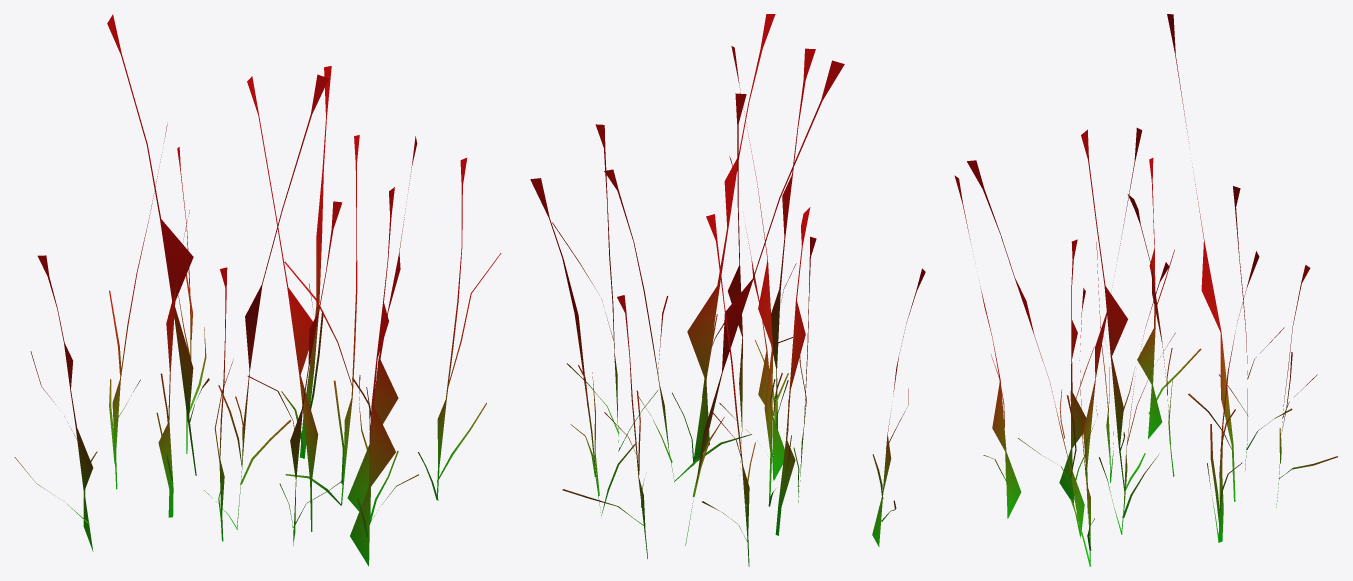
File: Tundra Grass_LOD6_Var33_wk2oaeyqx.fbx
3 renders of one model, left to right at view 1: azimuth 30°, elevation 25°; view 2: azimuth 150°, elevation 25°; view 3: azimuth 270°, elevation 25°, orthographic. The views are drawn at different scales.
Visible parts, largest first — view 1: _410v_Var33_LOD6; view 2: _410v_Var33_LOD6; view 3: _410v_Var33_LOD6.
Part boxes in pixels (left/top/right/bottom): _410v_Var33_LOD6: left=14, top=14, right=501, bottom=566; _410v_Var33_LOD6: left=530, top=14, right=925, bottom=566; _410v_Var33_LOD6: left=954, top=14, right=1337, bottom=566.
Bounding box in the file's own units: 63.25 × 73.07 × 57.75.
